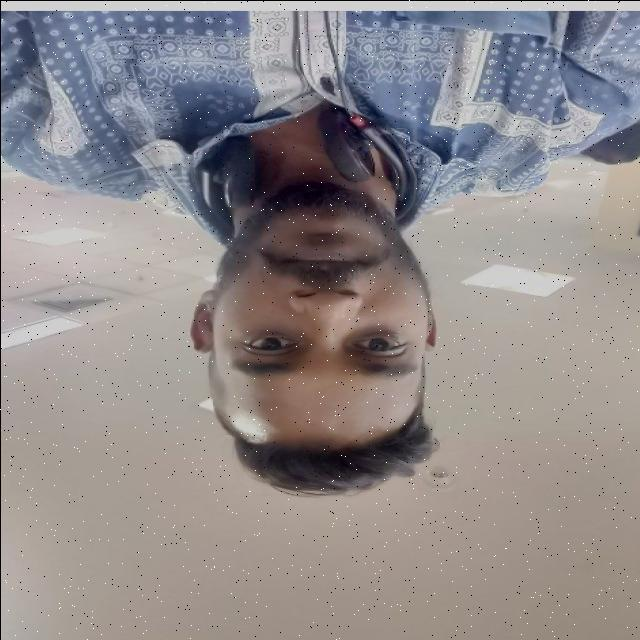face_no_mask: (179, 197, 444, 439)
